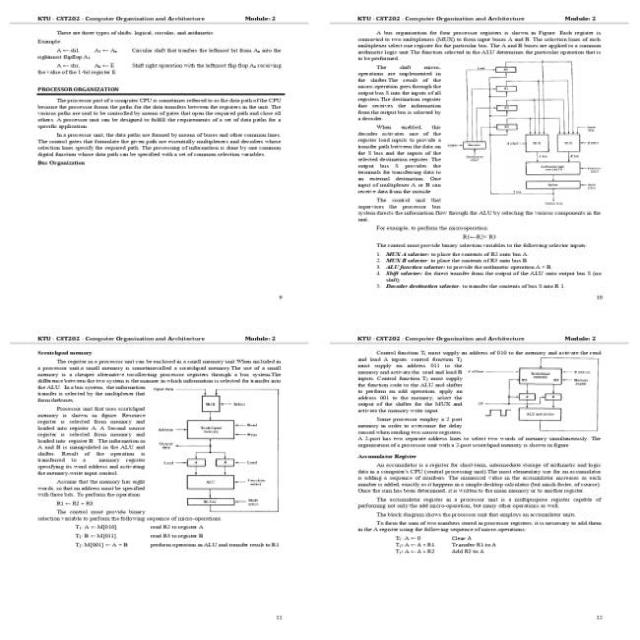Figure Detection - v3 Dataset Version2: (445, 57, 607, 208), (149, 384, 293, 516), (466, 354, 611, 434)
